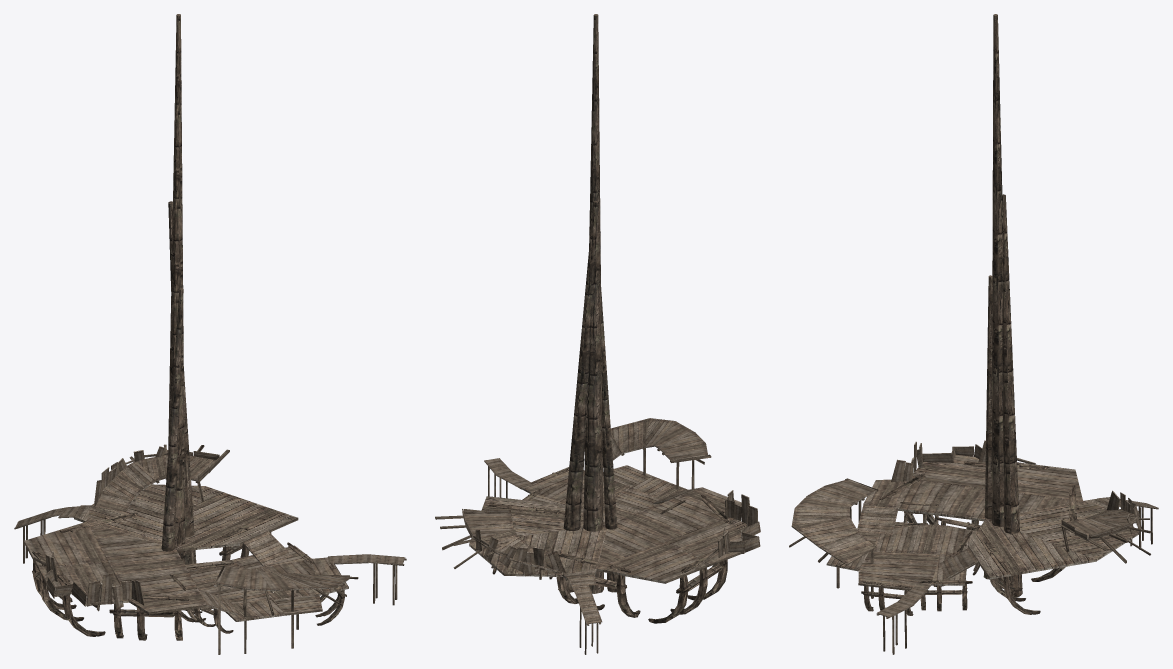
File: d_sg_shouyou_dimian01_qt.FBX
3 views of the same model, side by side, from view 1: azimuth 30°, elevation 25°; view 2: azimuth 150°, elevation 25°; view 3: azimuth 270°, elevation 25° (orthographic). The views are drawn at different scales.
Parts seen in each view (by area): view 1: d_sg_shouyou_chuan01_qt; view 2: d_sg_shouyou_chuan01_qt; view 3: d_sg_shouyou_chuan01_qt.
Boxes of the visible parts, x1,y1,x2,y2 form: d_sg_shouyou_chuan01_qt: (14, 14, 406, 654); d_sg_shouyou_chuan01_qt: (435, 14, 760, 654); d_sg_shouyou_chuan01_qt: (789, 14, 1158, 654).
Size of the model in its own units: 6940 by 12326 by 7256.
